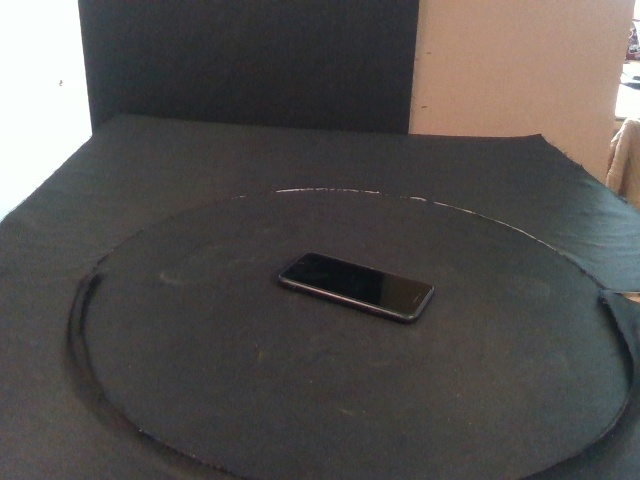phone: (278, 251, 435, 324)
